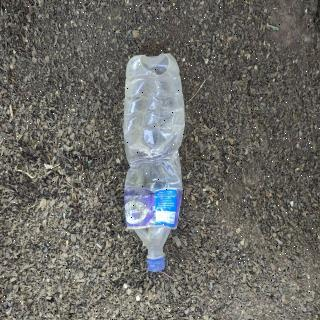Plastic-bottle: (121, 51, 187, 276)
